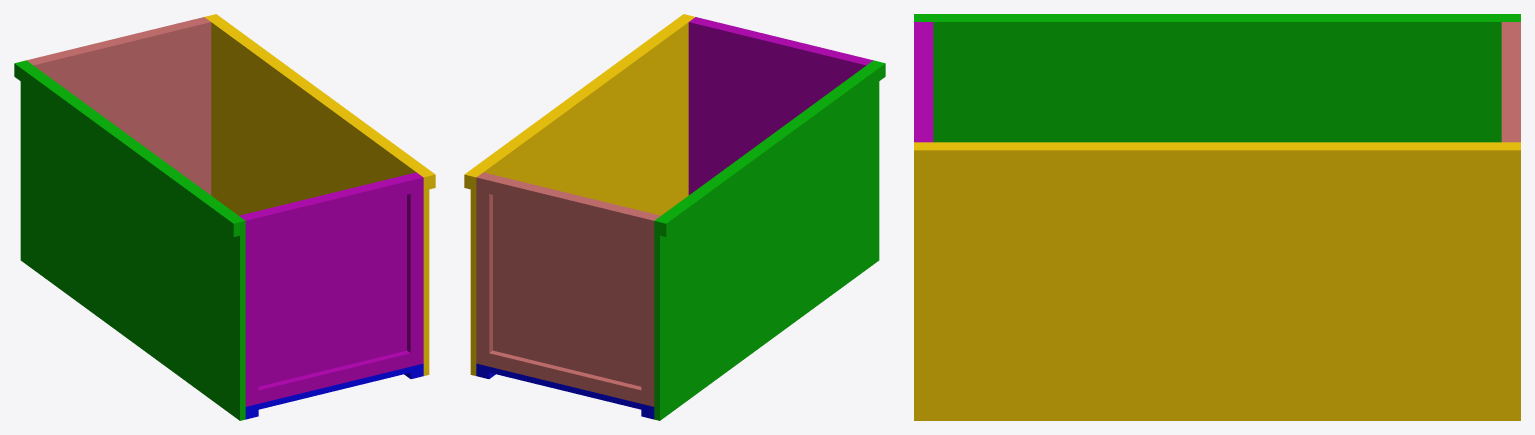
Rendered from result.glb.
3 renders of one model, left to right at view 1: azimuth 30°, elevation 25°; view 2: azimuth 150°, elevation 25°; view 3: azimuth 270°, elevation 25°, orthographic. The views are drawn at different scales.
Visible parts, largest first — view 1: 88612311-e5ee-4c01-ae3f-ae156f1ec3a3__Box_6, baee6ebc-943c-43d4-9878-9d84e5fadf53__Box_3, ee144e33-4206-49ae-a360-a1c327323334__undefined, 9c82a29d-6f7e-42c9-9df8-147637b652f1__undefined, e39e922c-dcfa-49c6-a002-ef3ec900a573__Box_7, 321f8b52-cc4f-464e-99d7-0cac0fe5587c__undefined, f48755ea-8d08-47c9-bb8d-13153e1fe5c4__undefined, a71c154e-05ef-4d52-9c6c-ad00e26ac58b__Box_5, 9dd95128-5703-4cd9-bb09-4382621fdc9f__Box_4, ff406a1d-5a06-4d55-8d37-2ea99717e3fb__undefined, 4084bc26-0927-479e-b3a3-5173ea9659ad__Box, 7db3e54a-b1db-40b1-9ffb-3bbc36e5ac56__undefined; view 2: 88612311-e5ee-4c01-ae3f-ae156f1ec3a3__Box_6, 9c82a29d-6f7e-42c9-9df8-147637b652f1__undefined, ee144e33-4206-49ae-a360-a1c327323334__undefined, baee6ebc-943c-43d4-9878-9d84e5fadf53__Box_3, e39e922c-dcfa-49c6-a002-ef3ec900a573__Box_7, b8dee1a3-53a3-4b33-9844-c5c56c8e29ac__undefined, 7db3e54a-b1db-40b1-9ffb-3bbc36e5ac56__undefined, f1cf46a6-fb4b-4f14-95e9-16969b345338__undefined, c7e857cb-d9c7-434d-9627-5b58eeb581f2__undefined, ff406a1d-5a06-4d55-8d37-2ea99717e3fb__undefined, 4084bc26-0927-479e-b3a3-5173ea9659ad__Box, f48755ea-8d08-47c9-bb8d-13153e1fe5c4__undefined; view 3: ee144e33-4206-49ae-a360-a1c327323334__undefined, 88612311-e5ee-4c01-ae3f-ae156f1ec3a3__Box_6, ff406a1d-5a06-4d55-8d37-2ea99717e3fb__undefined, e39e922c-dcfa-49c6-a002-ef3ec900a573__Box_7, baee6ebc-943c-43d4-9878-9d84e5fadf53__Box_3, 9c82a29d-6f7e-42c9-9df8-147637b652f1__undefined, f48755ea-8d08-47c9-bb8d-13153e1fe5c4__undefined, 7db3e54a-b1db-40b1-9ffb-3bbc36e5ac56__undefined.
Boxes of the visible parts, left/top/right/bottom form: 88612311-e5ee-4c01-ae3f-ae156f1ec3a3__Box_6: left=20, top=60, right=245, bottom=420; baee6ebc-943c-43d4-9878-9d84e5fadf53__Box_3: left=239, top=172, right=419, bottom=386; ee144e33-4206-49ae-a360-a1c327323334__undefined: left=205, top=15, right=429, bottom=375; 9c82a29d-6f7e-42c9-9df8-147637b652f1__undefined: left=30, top=19, right=211, bottom=195; e39e922c-dcfa-49c6-a002-ef3ec900a573__Box_7: left=14, top=61, right=239, bottom=236; 321f8b52-cc4f-464e-99d7-0cac0fe5587c__undefined: left=407, top=175, right=423, bottom=366; f48755ea-8d08-47c9-bb8d-13153e1fe5c4__undefined: left=255, top=178, right=410, bottom=230; a71c154e-05ef-4d52-9c6c-ad00e26ac58b__Box_5: left=258, top=350, right=410, bottom=403; 9dd95128-5703-4cd9-bb09-4382621fdc9f__Box_4: left=242, top=215, right=258, bottom=406; ff406a1d-5a06-4d55-8d37-2ea99717e3fb__undefined: left=210, top=14, right=435, bottom=189; 4084bc26-0927-479e-b3a3-5173ea9659ad__Box: left=245, top=363, right=423, bottom=412; 7db3e54a-b1db-40b1-9ffb-3bbc36e5ac56__undefined: left=39, top=20, right=194, bottom=59; 88612311-e5ee-4c01-ae3f-ae156f1ec3a3__Box_6: left=654, top=60, right=879, bottom=420; 9c82a29d-6f7e-42c9-9df8-147637b652f1__undefined: left=480, top=172, right=660, bottom=386; ee144e33-4206-49ae-a360-a1c327323334__undefined: left=470, top=15, right=694, bottom=375; baee6ebc-943c-43d4-9878-9d84e5fadf53__Box_3: left=688, top=19, right=869, bottom=195; e39e922c-dcfa-49c6-a002-ef3ec900a573__Box_7: left=660, top=61, right=885, bottom=236; b8dee1a3-53a3-4b33-9844-c5c56c8e29ac__undefined: left=476, top=175, right=492, bottom=366; 7db3e54a-b1db-40b1-9ffb-3bbc36e5ac56__undefined: left=489, top=178, right=644, bottom=230; f1cf46a6-fb4b-4f14-95e9-16969b345338__undefined: left=489, top=350, right=641, bottom=403; c7e857cb-d9c7-434d-9627-5b58eeb581f2__undefined: left=641, top=215, right=657, bottom=406; ff406a1d-5a06-4d55-8d37-2ea99717e3fb__undefined: left=464, top=14, right=689, bottom=189; 4084bc26-0927-479e-b3a3-5173ea9659ad__Box: left=476, top=363, right=654, bottom=412; f48755ea-8d08-47c9-bb8d-13153e1fe5c4__undefined: left=705, top=20, right=860, bottom=59; ee144e33-4206-49ae-a360-a1c327323334__undefined: left=914, top=142, right=1520, bottom=420; 88612311-e5ee-4c01-ae3f-ae156f1ec3a3__Box_6: left=914, top=18, right=1520, bottom=142; ff406a1d-5a06-4d55-8d37-2ea99717e3fb__undefined: left=914, top=146, right=1520, bottom=168; e39e922c-dcfa-49c6-a002-ef3ec900a573__Box_7: left=914, top=14, right=1520, bottom=18; baee6ebc-943c-43d4-9878-9d84e5fadf53__Box_3: left=924, top=22, right=933, bottom=142; 9c82a29d-6f7e-42c9-9df8-147637b652f1__undefined: left=1501, top=22, right=1510, bottom=142; f48755ea-8d08-47c9-bb8d-13153e1fe5c4__undefined: left=914, top=30, right=924, bottom=133; 7db3e54a-b1db-40b1-9ffb-3bbc36e5ac56__undefined: left=1510, top=30, right=1520, bottom=133.
Bounding box in the file's own units: 568 × 534 × 1068.
